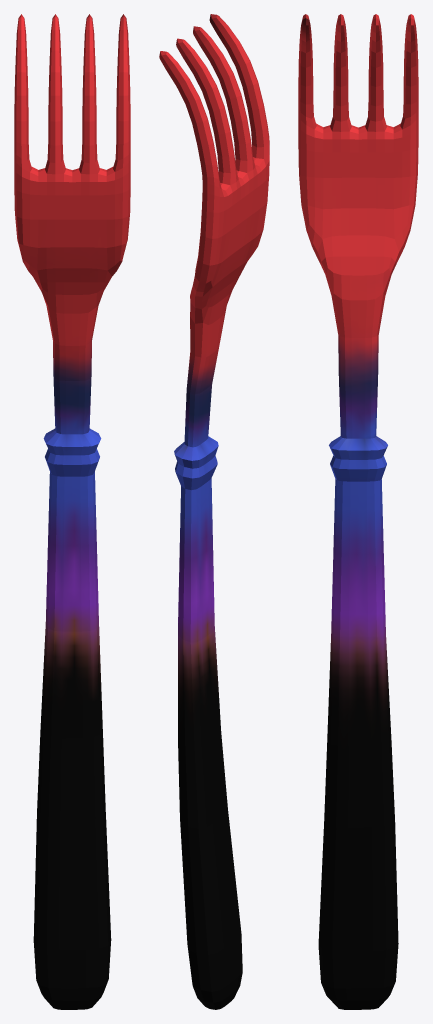
The model's file is shinycum.fbx.
3 views of the same model, side by side, from view 1: azimuth 90°, elevation 25°; view 2: azimuth 150°, elevation 25°; view 3: azimuth 270°, elevation 25° (orthographic). The views are drawn at different scales.
Visible parts, largest first — view 1: Plane; view 2: Plane; view 3: Plane.
Part boxes in pixels (x1,y1,x2,y2): Plane: (14, 14, 130, 1009); Plane: (159, 14, 269, 1009); Plane: (298, 14, 418, 1009).
Size of the model in its own units: 10.93 by 160 by 17.31.
